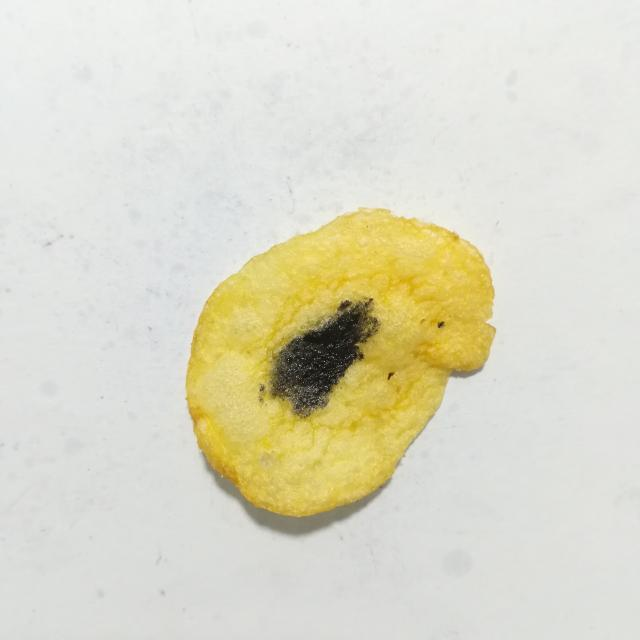chip: (186, 209, 495, 516)
damaged: (270, 298, 378, 417), (387, 372, 394, 380), (437, 321, 445, 328)
semi-damaged: (278, 312, 335, 350), (259, 385, 265, 392), (258, 395, 263, 403), (260, 386, 265, 390)
